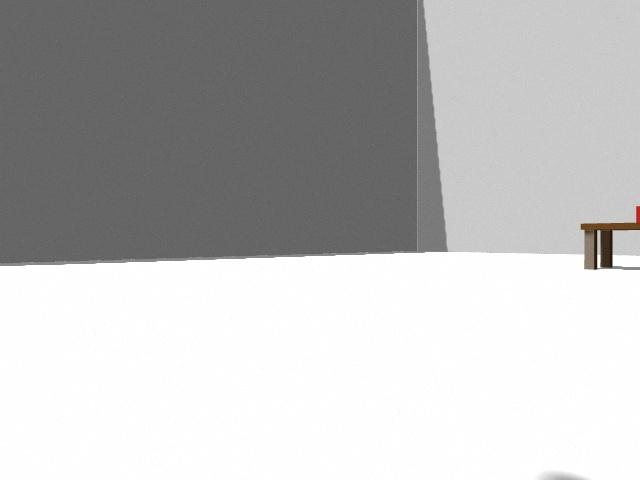red_cube: (636, 206, 640, 223)
